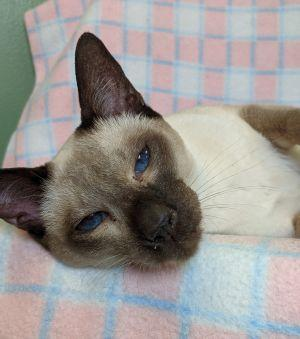siamese: (1, 28, 223, 287)
